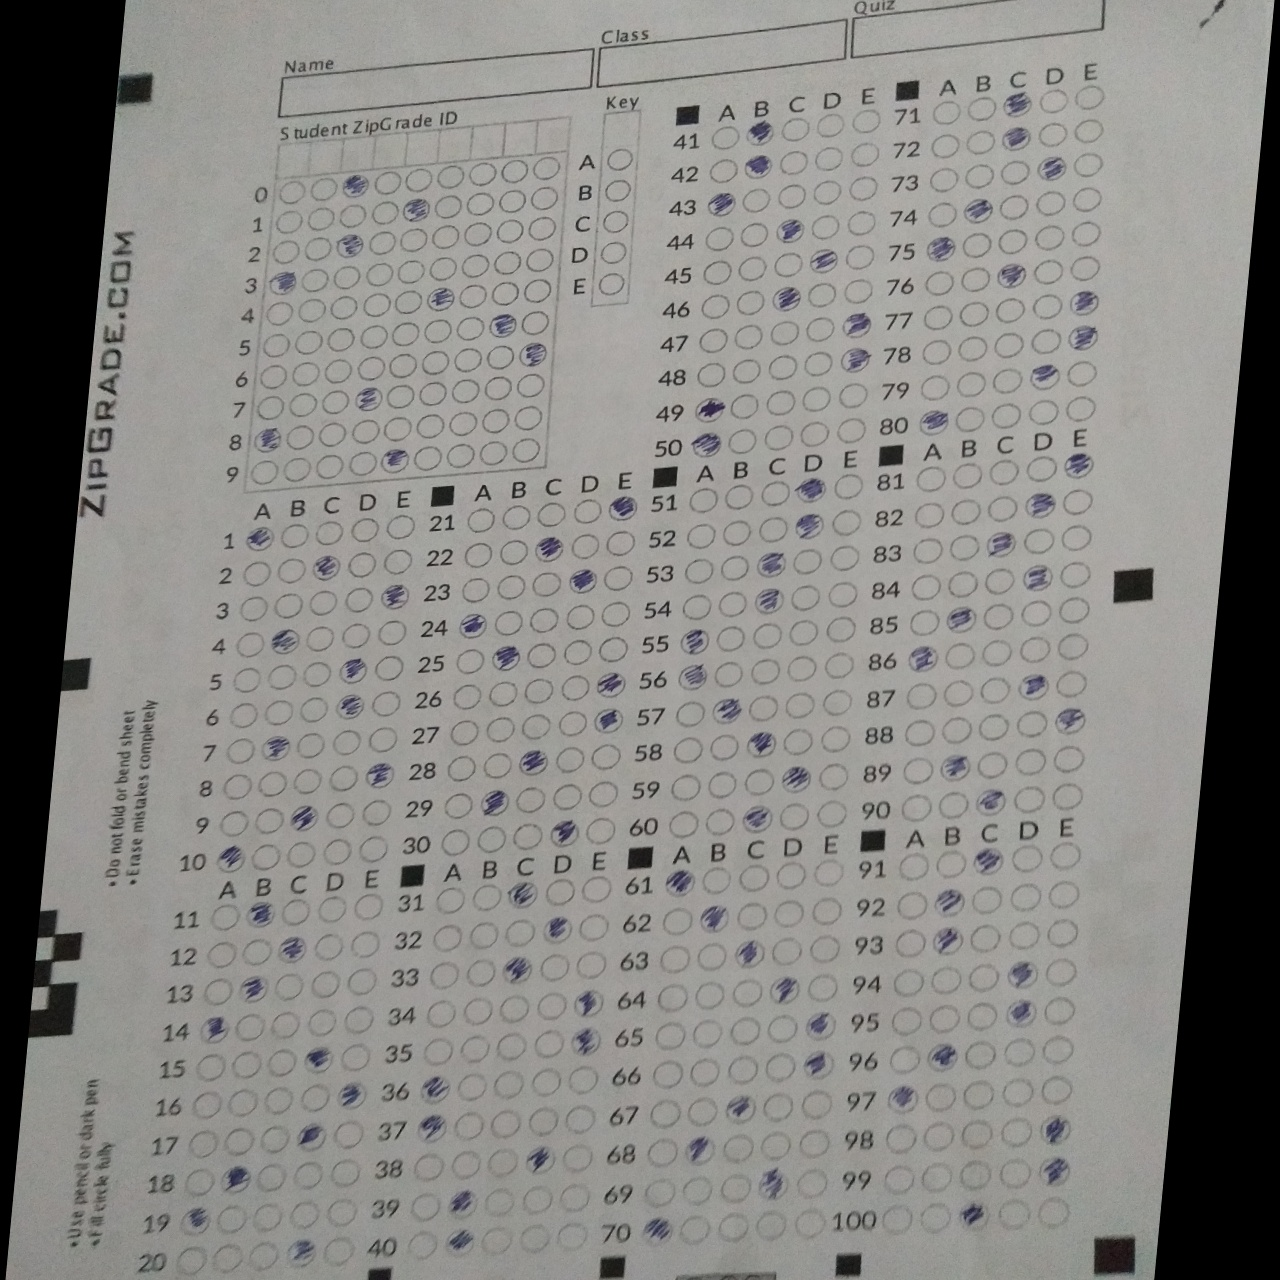not-c: (953, 1155, 994, 1194), (915, 1197, 955, 1235), (644, 1094, 685, 1131), (993, 1196, 1035, 1232), (177, 1162, 218, 1198), (879, 1121, 921, 1156), (1041, 955, 1084, 989), (891, 888, 934, 922), (638, 1175, 679, 1210), (993, 1155, 1034, 1190), (924, 1000, 965, 1035), (789, 1205, 831, 1239), (1040, 993, 1082, 1027), (512, 1221, 556, 1254), (878, 1198, 915, 1235), (401, 1225, 440, 1261), (885, 1002, 924, 1039), (553, 1218, 594, 1252), (888, 924, 930, 958), (918, 1157, 954, 1194), (172, 1242, 211, 1278), (656, 903, 695, 938), (804, 969, 843, 1005), (879, 1160, 918, 1196), (998, 1073, 1036, 1108), (1047, 778, 1085, 813), (482, 1146, 522, 1180), (668, 731, 708, 765), (760, 1089, 799, 1123), (1033, 1194, 1073, 1228), (996, 1115, 1036, 1149), (1005, 879, 1044, 913), (1051, 629, 1091, 663), (479, 1186, 520, 1219), (794, 1126, 835, 1159), (1026, 324, 1067, 356), (794, 1163, 830, 1199), (406, 1189, 443, 1224), (761, 1049, 798, 1084), (678, 1173, 715, 1208), (717, 1171, 755, 1206), (919, 1118, 956, 1153), (1037, 1071, 1075, 1107), (182, 1126, 220, 1160), (652, 979, 690, 1013), (1043, 917, 1082, 951), (908, 499, 948, 532), (956, 1078, 998, 1110), (297, 1080, 334, 1114), (188, 1085, 225, 1119), (327, 1155, 365, 1189), (408, 1148, 445, 1182), (676, 1212, 714, 1246), (1040, 1032, 1077, 1065), (966, 998, 1003, 1032), (556, 1180, 594, 1213), (823, 577, 862, 610), (813, 758, 852, 791), (663, 806, 702, 839), (764, 1010, 803, 1043), (641, 1135, 680, 1167), (888, 965, 927, 998), (896, 791, 934, 824), (913, 372, 952, 404), (881, 1043, 921, 1075), (893, 850, 933, 881), (799, 1087, 835, 1122), (203, 937, 239, 971), (336, 1040, 373, 1074), (331, 1116, 367, 1150), (321, 1234, 358, 1268), (527, 1064, 564, 1098), (667, 769, 703, 803), (715, 1210, 751, 1244), (753, 1208, 789, 1242), (921, 1080, 958, 1114), (253, 1160, 291, 1193), (324, 1196, 361, 1228), (418, 1034, 456, 1067), (530, 1027, 567, 1060), (565, 1062, 602, 1095), (445, 1148, 483, 1180), (692, 356, 729, 389), (686, 1055, 723, 1088), (1046, 877, 1083, 910), (1014, 632, 1051, 665), (980, 564, 1017, 597), (489, 1068, 527, 1099), (734, 863, 772, 894), (898, 715, 937, 747), (942, 567, 981, 599), (908, 463, 948, 493), (220, 1124, 256, 1158), (257, 1121, 292, 1155), (689, 1015, 724, 1049), (286, 1199, 322, 1232), (559, 1141, 595, 1173), (478, 1224, 515, 1257), (813, 797, 850, 830), (771, 897, 808, 930), (648, 1057, 685, 1090), (967, 959, 1003, 992), (899, 753, 935, 785), (1012, 745, 1048, 778), (986, 454, 1022, 486), (954, 331, 990, 363), (430, 885, 468, 917), (572, 949, 610, 981), (501, 915, 538, 947), (424, 959, 462, 990), (762, 386, 799, 417), (734, 900, 771, 932), (1000, 1036, 1037, 1068), (927, 962, 965, 994), (939, 678, 976, 709), (839, 241, 878, 272), (802, 281, 840, 312), (1012, 708, 1050, 738), (686, 1094, 720, 1128), (908, 568, 942, 602), (229, 1047, 264, 1080), (225, 1085, 260, 1118), (291, 1158, 326, 1191), (211, 1241, 246, 1274), (760, 420, 795, 452), (653, 1019, 688, 1051), (903, 679, 938, 712), (260, 1083, 297, 1115), (250, 1200, 286, 1232), (579, 873, 615, 905), (775, 799, 811, 831), (811, 856, 847, 887), (810, 896, 846, 927), (655, 942, 692, 974), (727, 1014, 763, 1046), (967, 922, 1003, 954), (1008, 843, 1044, 874), (1047, 839, 1083, 871), (975, 748, 1012, 779), (938, 713, 974, 744), (1054, 668, 1090, 700), (979, 601, 1015, 633), (1023, 452, 1060, 484), (561, 1104, 599, 1135), (720, 1132, 757, 1163), (956, 1118, 994, 1149), (933, 790, 971, 821), (1055, 594, 1092, 625), (1058, 486, 1096, 517), (987, 399, 1024, 429), (1067, 252, 1104, 282), (922, 198, 960, 229), (233, 1009, 266, 1043), (215, 1201, 248, 1234), (496, 992, 530, 1024), (770, 934, 804, 967), (726, 1053, 760, 1085), (450, 343, 485, 375), (423, 996, 458, 1028), (458, 1033, 493, 1064), (455, 1070, 490, 1102), (451, 1110, 486, 1142), (520, 1184, 556, 1216), (836, 379, 871, 410), (704, 768, 740, 799), (772, 859, 808, 891), (692, 979, 727, 1010), (969, 884, 1005, 915), (934, 847, 969, 879), (907, 606, 942, 638), (954, 367, 989, 399), (273, 176, 309, 206), (488, 1108, 524, 1138), (695, 324, 731, 354), (833, 415, 870, 445), (831, 470, 867, 501), (806, 933, 843, 964), (729, 978, 765, 1008), (757, 1130, 794, 1160), (1057, 559, 1094, 590), (985, 493, 1021, 524), (692, 941, 729, 971), (973, 712, 1010, 741), (1057, 523, 1095, 552), (1020, 525, 1057, 554), (265, 1046, 298, 1078), (312, 930, 346, 961), (246, 1240, 280, 1272), (576, 911, 610, 942), (467, 918, 501, 949), (537, 951, 571, 982), (765, 352, 799, 383), (824, 612, 858, 644), (1012, 784, 1046, 816), (1051, 744, 1085, 776), (1032, 222, 1065, 253), (533, 990, 568, 1021), (526, 1105, 561, 1136), (796, 417, 831, 448), (685, 484, 720, 515), (741, 765, 776, 796), (703, 805, 738, 836), (697, 865, 733, 896), (962, 1040, 998, 1070), (941, 640, 976, 670), (948, 497, 983, 527), (1063, 392, 1098, 422), (989, 366, 1024, 396), (956, 298, 992, 328), (1030, 256, 1065, 286), (995, 226, 1030, 257), (961, 161, 996, 191), (257, 329, 293, 359), (493, 1032, 530, 1061), (731, 321, 768, 350), (817, 723, 853, 753), (978, 636, 1014, 666), (1017, 598, 1054, 627), (908, 536, 945, 565), (992, 297, 1028, 326), (1029, 291, 1065, 320), (920, 268, 956, 298), (1068, 219, 1104, 248), (1033, 188, 1069, 217), (700, 223, 737, 251), (696, 292, 734, 320), (1033, 120, 1071, 147), (273, 971, 306, 1002), (461, 994, 493, 1026), (1071, 148, 1104, 179), (365, 229, 399, 259), (268, 1010, 302, 1041), (239, 937, 273, 967), (847, 138, 881, 169), (821, 649, 855, 680), (821, 687, 855, 717), (707, 730, 741, 761), (781, 726, 815, 756), (1007, 919, 1041, 949), (926, 164, 960, 195), (964, 127, 998, 157), (315, 893, 350, 922), (542, 877, 577, 906), (428, 924, 463, 953), (463, 958, 498, 987), (704, 156, 740, 185), (770, 250, 805, 279), (1065, 359, 1101, 388), (990, 328, 1026, 358), (920, 335, 955, 365), (1070, 185, 1105, 215), (586, 778, 622, 806), (706, 123, 742, 151), (847, 105, 884, 134), (1073, 83, 1109, 111), (306, 1005, 338, 1036), (768, 316, 801, 347), (1027, 395, 1060, 425), (583, 816, 617, 845), (345, 967, 379, 996), (349, 930, 383, 959), (342, 1005, 376, 1034), (308, 968, 342, 998), (469, 883, 503, 912), (846, 173, 880, 203), (745, 693, 779, 722), (949, 459, 983, 489), (960, 230, 994, 259), (998, 157, 1032, 186), (928, 130, 962, 159), (964, 93, 998, 122), (254, 362, 290, 390), (843, 207, 878, 236), (799, 350, 835, 379), (783, 690, 818, 719), (978, 676, 1013, 704), (928, 97, 964, 125), (454, 313, 486, 342), (511, 403, 544, 433), (553, 744, 586, 774), (812, 144, 845, 173), (524, 213, 558, 241), (440, 828, 474, 856), (775, 182, 809, 210), (700, 257, 734, 285), (758, 479, 792, 508), (784, 654, 818, 682), (998, 192, 1032, 220), (946, 535, 981, 561), (493, 215, 525, 244), (203, 976, 234, 1006), (812, 178, 844, 207), (509, 435, 542, 463), (597, 635, 629, 663), (720, 518, 753, 546), (726, 425, 758, 454), (722, 482, 755, 510), (921, 302, 954, 331), (520, 277, 554, 304), (588, 742, 622, 769), (808, 215, 842, 241), (803, 315, 837, 342), (1037, 87, 1071, 114), (840, 278, 876, 304), (195, 1053, 225, 1082), (305, 204, 336, 232), (462, 219, 493, 247), (299, 265, 331, 293), (321, 356, 353, 384), (477, 438, 509, 467), (717, 590, 749, 618), (719, 553, 750, 581), (265, 662, 297, 690), (263, 697, 294, 726), (291, 765, 322, 794), (224, 736, 256, 764), (757, 515, 789, 543), (467, 159, 499, 186), (434, 162, 467, 189), (499, 157, 532, 184), (431, 193, 464, 220), (397, 225, 430, 252), (427, 256, 459, 282), (597, 238, 629, 265), (535, 501, 567, 527), (282, 424, 315, 451), (568, 533, 601, 560), (459, 576, 492, 602), (339, 621, 372, 648), (454, 648, 486, 675), (366, 726, 399, 753), (257, 769, 290, 796), (527, 605, 560, 632), (556, 709, 588, 736), (481, 753, 513, 779), (486, 680, 519, 707), (248, 843, 281, 870), (352, 893, 384, 920), (738, 220, 771, 247), (735, 256, 768, 282), (734, 290, 767, 316), (730, 358, 763, 384), (799, 384, 832, 411), (958, 266, 992, 292), (403, 165, 434, 193), (595, 268, 626, 297), (293, 327, 324, 355), (415, 411, 445, 440), (279, 520, 309, 549), (444, 442, 475, 470), (465, 506, 496, 535), (600, 599, 631, 627), (513, 822, 544, 850), (253, 806, 284, 835), (218, 809, 248, 837), (729, 390, 760, 418), (496, 188, 527, 215), (459, 252, 491, 279), (457, 282, 489, 309), (600, 207, 632, 234), (325, 325, 356, 352), (389, 320, 421, 347), (422, 316, 454, 343), (387, 350, 418, 377), (447, 410, 478, 437), (481, 407, 512, 434), (482, 374, 513, 401), (287, 392, 319, 418), (281, 455, 313, 482), (450, 377, 482, 404), (384, 382, 416, 409), (421, 349, 452, 376), (312, 520, 343, 547), (348, 517, 380, 544), (307, 588, 339, 615), (275, 557, 307, 584), (345, 550, 376, 577), (571, 498, 602, 525), (501, 503, 532, 530), (384, 513, 416, 540), (347, 449, 379, 476), (304, 624, 335, 651), (601, 564, 633, 591), (373, 653, 404, 680), (376, 618, 408, 645), (686, 522, 717, 549), (561, 638, 593, 665), (495, 573, 526, 600), (791, 547, 823, 574), (789, 584, 821, 611), (681, 593, 713, 620), (231, 666, 263, 693), (233, 631, 265, 658), (331, 728, 362, 755), (229, 700, 260, 727), (298, 696, 329, 723), (829, 544, 860, 571), (222, 772, 253, 799), (788, 618, 819, 645), (751, 621, 783, 648), (713, 660, 744, 687), (714, 624, 745, 651), (449, 719, 481, 745), (442, 792, 474, 819), (519, 713, 551, 740), (551, 782, 583, 809), (445, 755, 477, 782), (523, 678, 554, 704), (358, 835, 389, 862), (285, 840, 316, 867), (476, 825, 508, 852), (325, 802, 356, 829), (360, 798, 392, 825), (209, 904, 240, 931), (741, 186, 772, 213), (953, 406, 985, 433), (263, 300, 295, 326), (411, 444, 444, 470), (815, 113, 847, 138), (1073, 118, 1105, 144), (778, 116, 812, 141), (302, 234, 332, 263), (332, 263, 361, 291), (485, 343, 515, 372), (308, 175, 339, 202), (370, 199, 401, 226), (465, 190, 496, 217), (365, 260, 395, 287), (297, 297, 327, 324), (361, 291, 392, 318), (519, 309, 550, 336), (316, 421, 347, 448), (350, 418, 381, 445), (382, 415, 413, 442), (515, 372, 545, 399), (320, 388, 350, 415), (254, 394, 285, 421), (248, 458, 279, 485), (417, 379, 448, 406), (499, 538, 530, 565), (463, 542, 493, 568), (238, 595, 268, 622), (272, 592, 302, 619), (381, 549, 411, 576), (314, 451, 345, 478), (343, 585, 374, 612), (241, 560, 272, 587), (606, 530, 636, 557), (492, 610, 523, 636), (525, 641, 556, 668), (565, 602, 595, 629), (531, 570, 561, 597), (685, 557, 715, 584), (302, 659, 333, 686), (451, 683, 482, 710), (328, 764, 359, 791), (295, 731, 326, 758), (370, 690, 401, 717), (831, 509, 862, 536), (485, 716, 516, 743), (675, 700, 706, 727), (515, 787, 545, 813), (559, 675, 590, 702), (750, 658, 781, 685), (322, 838, 353, 865), (279, 898, 309, 925), (531, 155, 563, 181), (273, 207, 305, 233), (338, 203, 369, 229), (270, 238, 301, 264), (392, 290, 423, 315), (358, 324, 389, 349), (290, 360, 321, 386), (605, 145, 634, 172), (491, 250, 522, 275), (524, 246, 554, 272), (328, 295, 359, 321), (489, 280, 519, 306), (778, 149, 809, 175), (431, 222, 459, 248), (396, 258, 425, 284), (354, 355, 384, 380), (372, 170, 401, 195), (530, 185, 559, 210), (602, 177, 632, 202)
taken-c: (1034, 1152, 1075, 1189), (922, 1039, 964, 1074), (1035, 1111, 1073, 1148), (955, 1197, 993, 1233), (754, 1166, 792, 1201), (884, 1081, 922, 1116), (175, 1204, 215, 1238), (765, 972, 803, 1007), (1051, 704, 1090, 738), (1002, 996, 1041, 1030), (696, 901, 733, 937), (803, 1008, 839, 1043), (682, 1132, 719, 1167), (722, 1091, 760, 1125), (639, 1214, 676, 1248), (1005, 956, 1042, 990), (799, 1047, 838, 1080), (1014, 670, 1053, 703), (930, 924, 968, 956), (731, 935, 767, 971), (523, 1143, 559, 1177), (413, 1112, 450, 1145), (572, 986, 607, 1020), (501, 952, 536, 986), (196, 1013, 232, 1046), (282, 1237, 319, 1269), (444, 1189, 481, 1221), (942, 602, 979, 635), (236, 973, 273, 1005), (972, 787, 1009, 818), (969, 845, 1007, 877), (931, 886, 968, 918), (418, 1073, 452, 1107), (740, 802, 775, 835), (906, 642, 941, 675), (661, 867, 697, 899), (1022, 489, 1058, 520), (1019, 561, 1055, 593), (216, 1164, 253, 1194), (836, 343, 873, 374), (998, 89, 1035, 120), (915, 407, 953, 437), (516, 745, 550, 778), (297, 1119, 331, 1152), (335, 1080, 370, 1111), (568, 1026, 604, 1057), (540, 913, 576, 945), (769, 282, 804, 314), (704, 189, 740, 220), (983, 527, 1019, 559), (441, 1226, 477, 1257), (960, 195, 996, 225), (1028, 361, 1064, 392), (938, 753, 974, 783), (1064, 324, 1102, 353), (275, 932, 308, 965), (479, 787, 513, 818), (794, 510, 828, 542), (1068, 285, 1102, 316), (794, 475, 829, 505), (709, 695, 744, 726), (744, 729, 779, 760), (778, 763, 813, 794), (301, 1046, 336, 1076), (504, 880, 539, 911), (839, 309, 874, 340), (486, 642, 523, 672), (1061, 451, 1097, 481), (213, 844, 247, 874), (549, 817, 583, 847), (753, 585, 787, 615), (678, 627, 712, 658), (241, 524, 277, 553), (605, 493, 640, 523), (754, 550, 789, 579), (675, 662, 710, 692), (1034, 154, 1069, 183), (993, 260, 1028, 290), (516, 339, 549, 369), (365, 760, 397, 790), (690, 429, 723, 459), (259, 731, 293, 761), (999, 124, 1033, 154), (593, 670, 628, 699), (591, 704, 626, 733), (692, 396, 727, 424), (805, 247, 840, 275), (741, 152, 776, 181), (567, 565, 599, 595), (309, 552, 342, 581), (333, 692, 366, 721), (287, 804, 320, 833), (744, 118, 777, 148), (532, 535, 566, 563), (772, 217, 806, 245), (922, 234, 956, 263), (377, 583, 413, 610), (338, 656, 370, 685), (456, 611, 489, 639), (243, 900, 275, 928), (399, 197, 433, 224), (266, 270, 300, 297), (267, 627, 301, 654), (339, 172, 372, 199), (333, 231, 366, 258), (251, 425, 284, 452), (379, 447, 411, 474), (350, 386, 384, 411), (486, 312, 517, 340), (425, 285, 455, 313)
